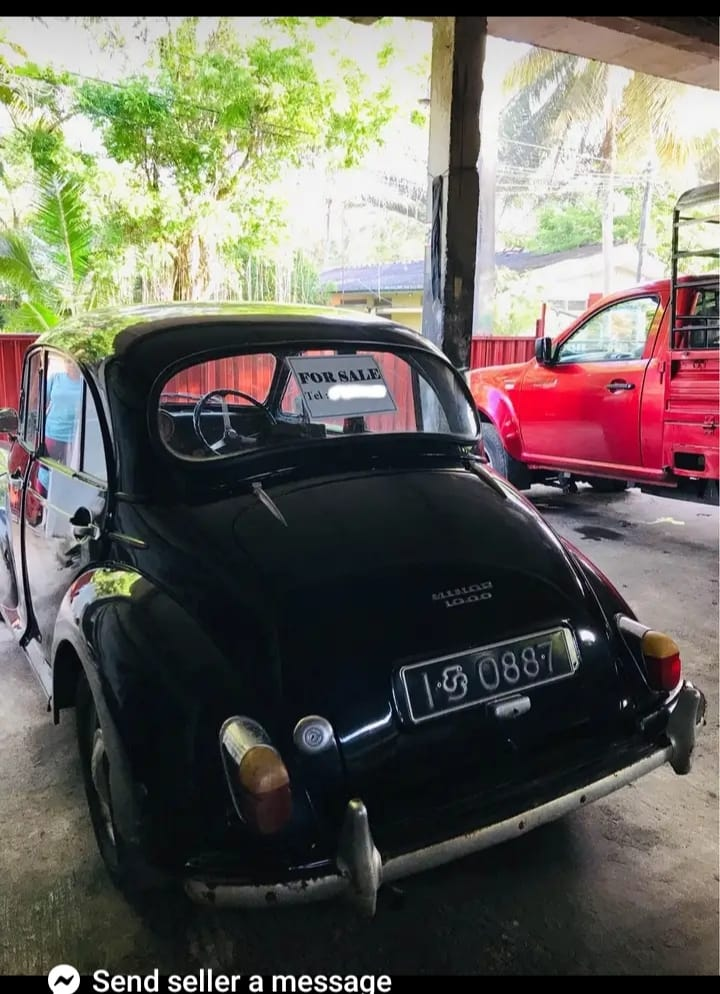number_plate: (400, 628, 579, 725)
